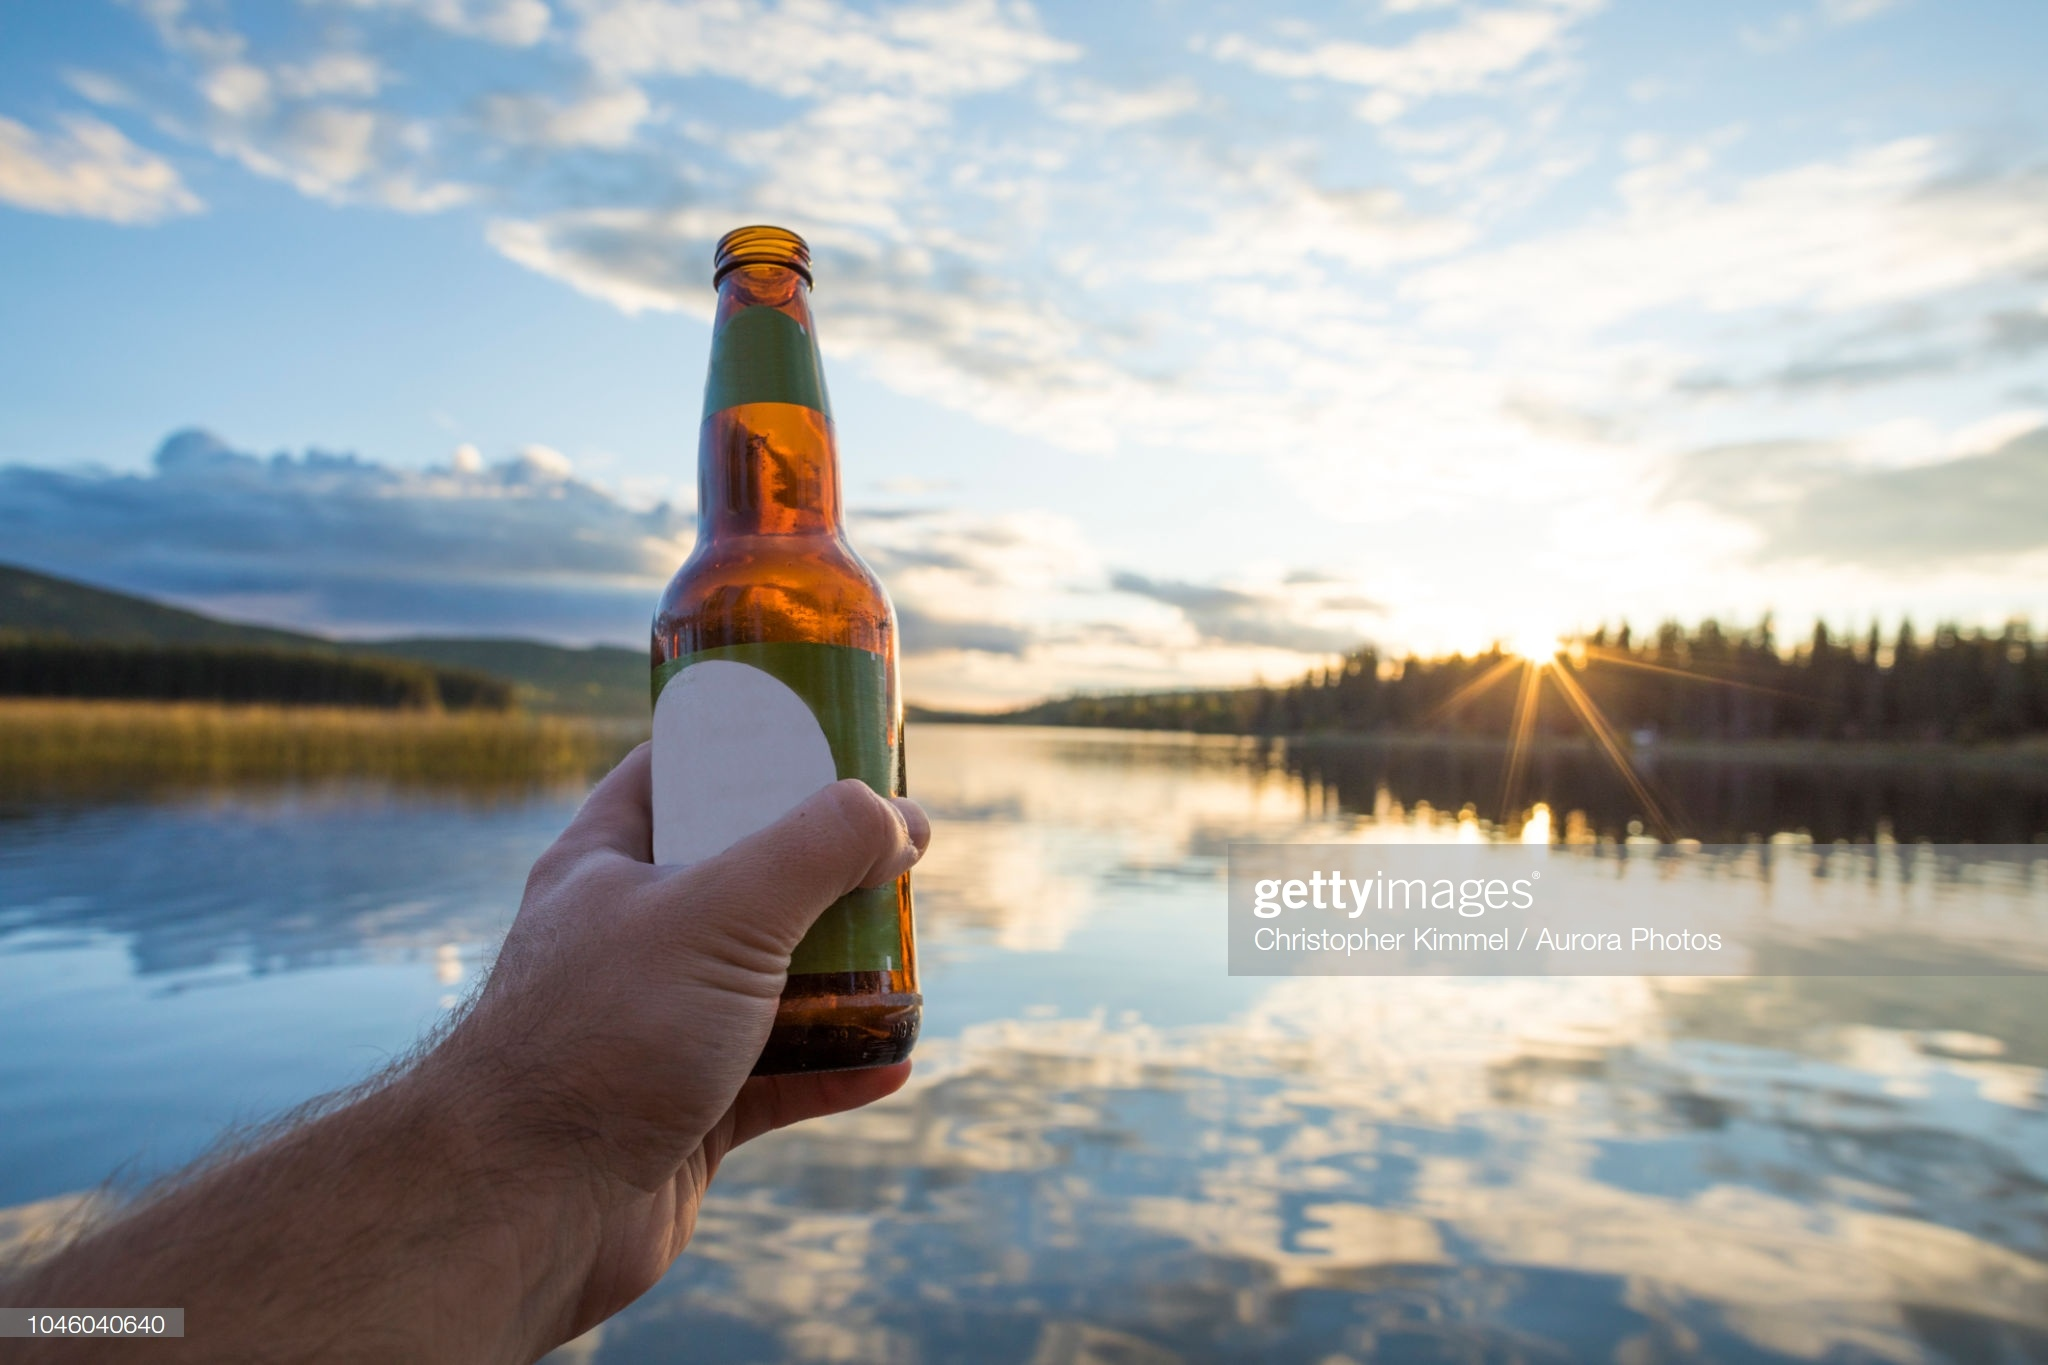beerBottle: (653, 238, 924, 1060)
